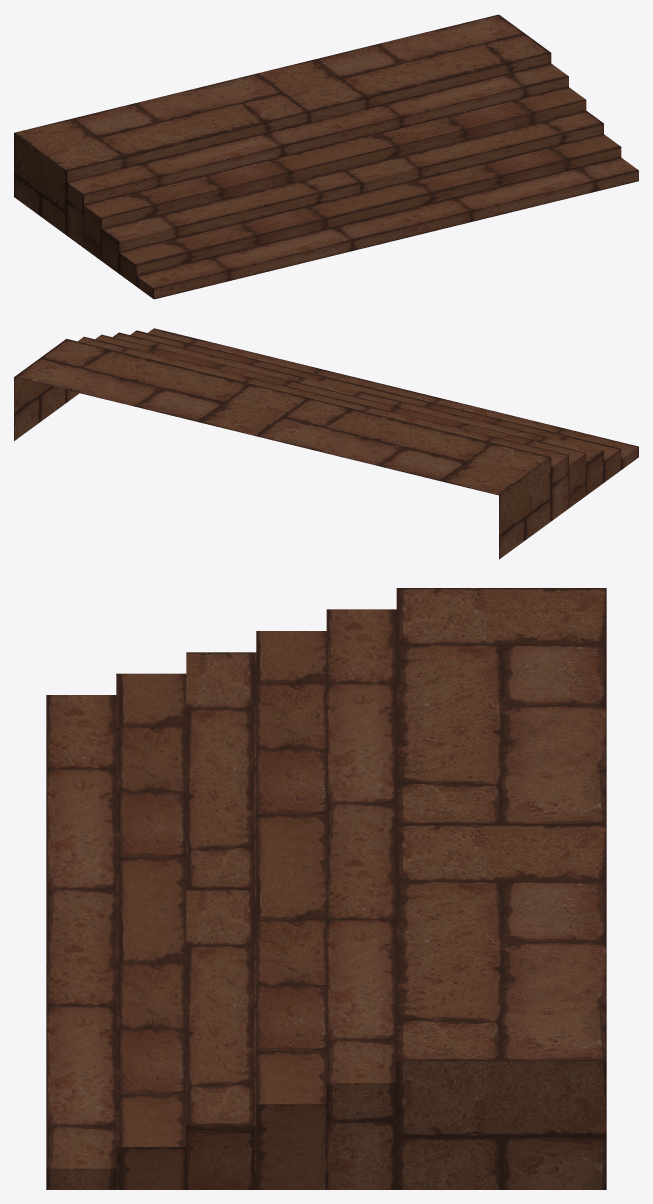
The model's file is Stairs_1x2.fbx.
3 views of the same model, one above another, from view 1: azimuth 30°, elevation 25°; view 2: azimuth 150°, elevation 25°; view 3: azimuth 270°, elevation 25° (orthographic). The views are drawn at different scales.
Visible parts, largest first — view 1: Stairs_1x2; view 2: Stairs_1x2; view 3: Stairs_1x2.
Boxes of the visible parts, x1,y1,x2,y2 form: Stairs_1x2: (14, 14, 638, 299); Stairs_1x2: (14, 328, 638, 559); Stairs_1x2: (46, 588, 606, 1189).
Bounding box in the file's own units: 233 × 29.47 × 116.
